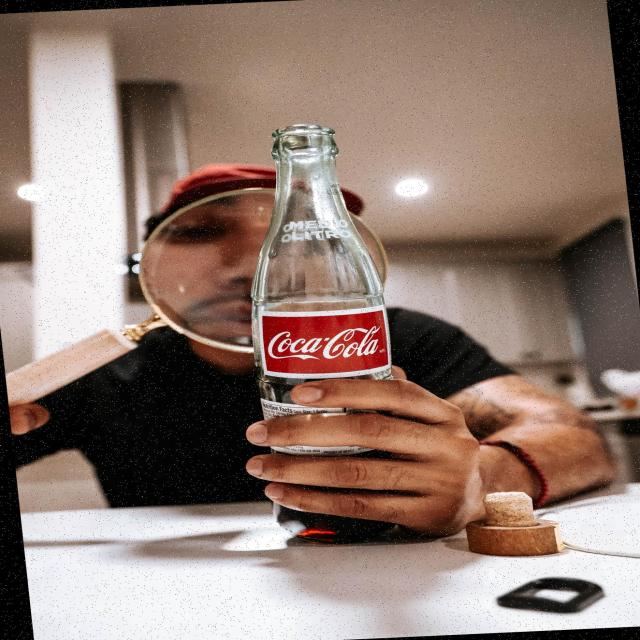coca-cola: (260, 323, 384, 367)
